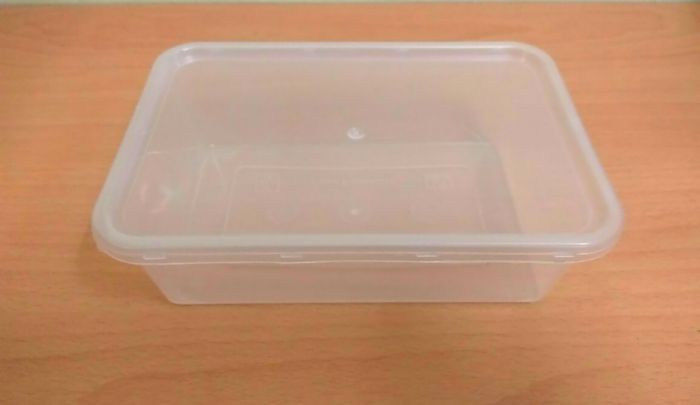PlasticBox: (84, 34, 628, 308)
